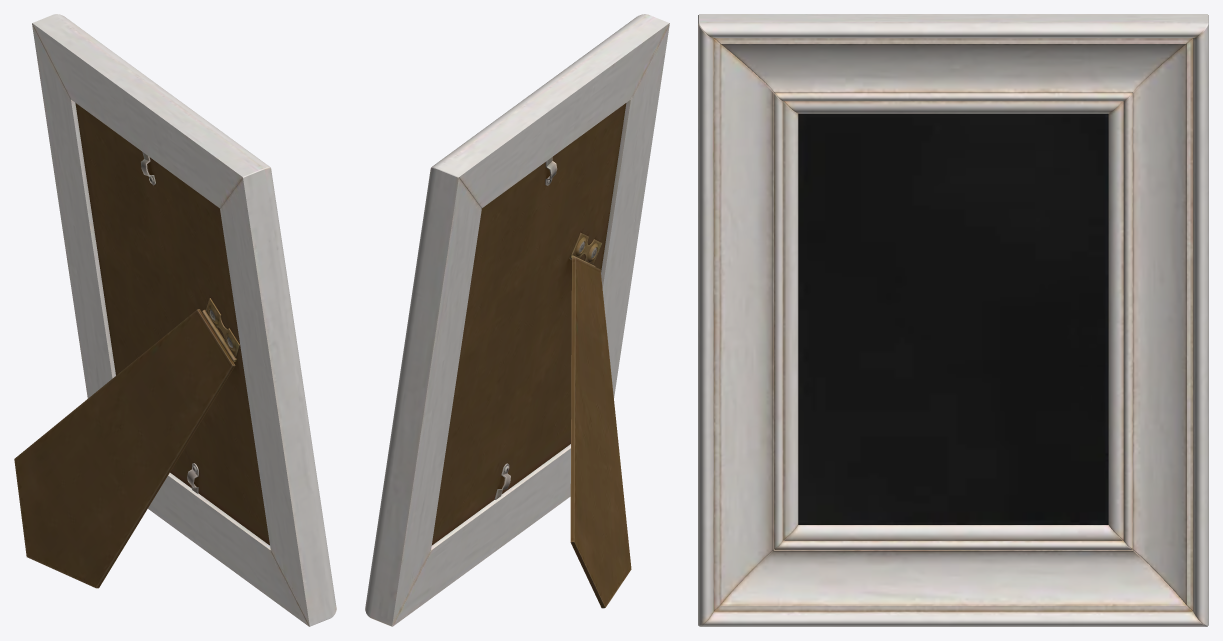
Rendered from standing_picture_frame_02.glb.
3 renders of one model, left to right at view 1: azimuth 30°, elevation 25°; view 2: azimuth 150°, elevation 25°; view 3: azimuth 270°, elevation 25°, orthographic. The views are drawn at different scales.
Parts seen in each view (by area): view 1: standing_picture_frame_02; view 2: standing_picture_frame_02; view 3: standing_picture_frame_02.
Boxes of the visible parts, left/top/right/bottom form: standing_picture_frame_02: left=14, top=14, right=336, bottom=626; standing_picture_frame_02: left=365, top=14, right=669, bottom=626; standing_picture_frame_02: left=698, top=14, right=1208, bottom=626.
Size of the model in its own units: 0.1023 by 0.2664 by 0.2169.
Materials: 3 (3 with a texture image).
